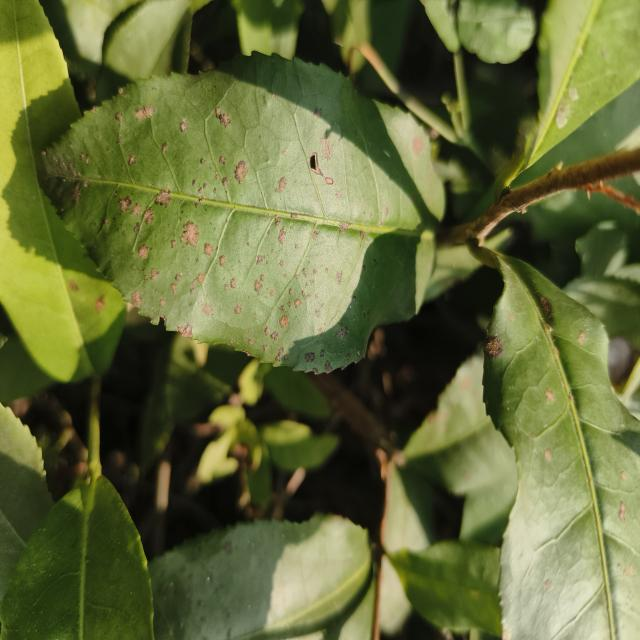Leaf: (37, 53, 444, 373), (478, 249, 640, 640), (0, 0, 126, 382), (149, 514, 376, 640), (0, 476, 153, 640), (527, 0, 640, 168), (403, 355, 517, 495), (388, 540, 501, 636), (96, 0, 193, 102), (457, 0, 535, 64), (260, 420, 339, 471), (263, 366, 330, 417)
